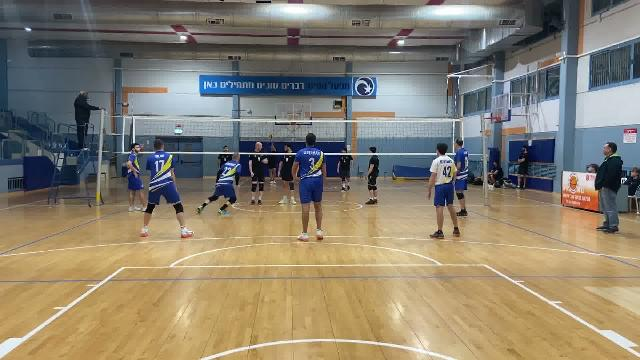ball: (267, 129, 275, 144)
